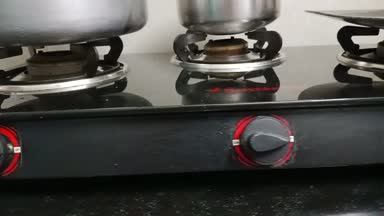flame_gas_off: (171, 27, 314, 170)
